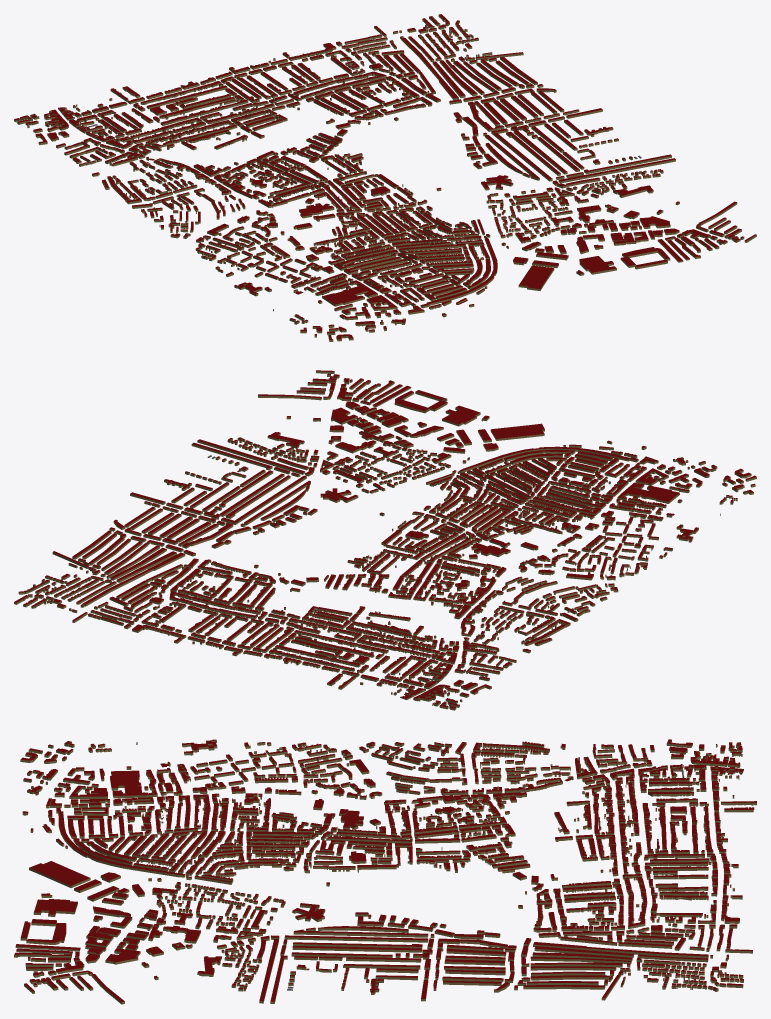
3 views of the same model, one above another, from view 1: azimuth 30°, elevation 25°; view 2: azimuth 150°, elevation 25°; view 3: azimuth 270°, elevation 25° (orthographic). The views are drawn at different scales.
Visible parts, largest first — view 1: Building3301; view 2: Building3301; view 3: Building3301, Building1943, Building1117, Building1042, Building Tesco Extra, Building1159, Building1714, Building1447, Building1932.
Part boxes in pixels (<box>): Building3301: <box>426,237,497,305</box>; Building3301: <box>459,446,630,472</box>; Building3301: <box>58,811,185,877</box>; Building1943: <box>533,942,708,958</box>; Building1117: <box>284,935,428,942</box>; Building1042: <box>293,929,428,937</box>; Building Tesco Extra: <box>33,899,77,916</box>; Building1159: <box>292,946,421,952</box>; Building1714: <box>293,942,422,948</box>; Building1447: <box>534,946,633,957</box>; Building1932: <box>532,952,632,961</box>.
Bounding box in the file's own units: 1802 × 10 × 2152.
